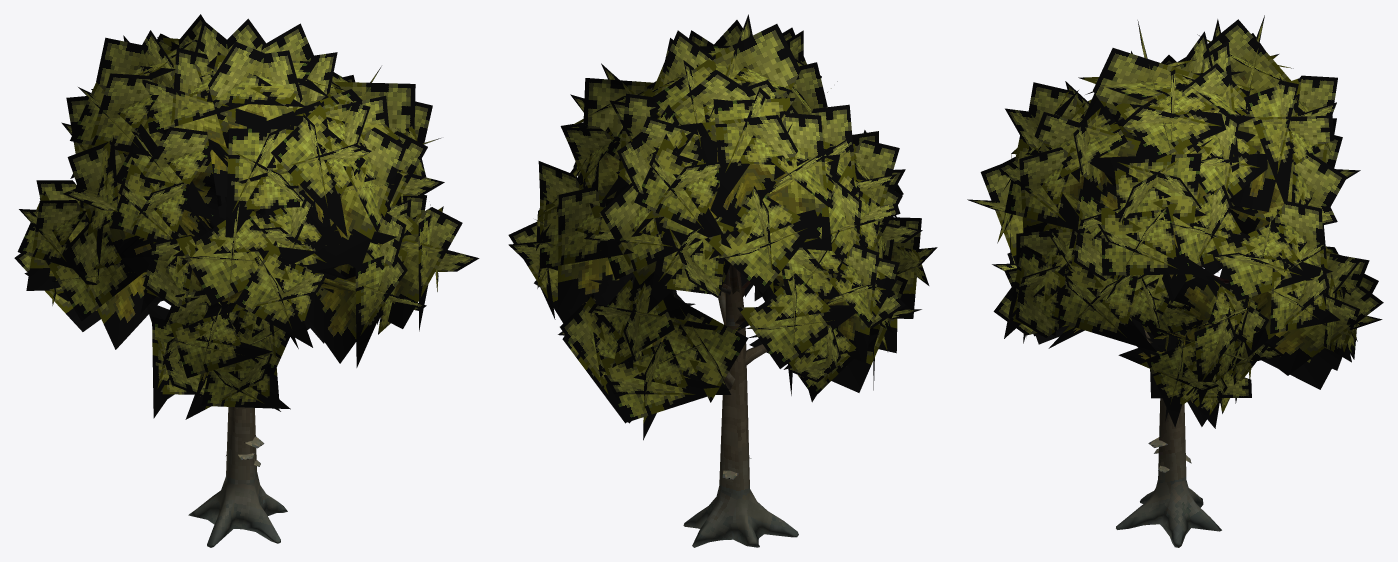
Rendered from plants_area02_tree01.gltf.
3 views of the same model, side by side, from view 1: azimuth 30°, elevation 25°; view 2: azimuth 150°, elevation 25°; view 3: azimuth 270°, elevation 25° (orthographic).
Visible parts, largest first — view 1: um_plants_area02_tree01_model_plants_area02_tree01_modelShap (×2); view 2: um_plants_area02_tree01_model_plants_area02_tree01_modelShap (×2); view 3: um_plants_area02_tree01_model_plants_area02_tree01_modelShap (×2).
Part boxes in pixels (x1,y1,x2,y2): um_plants_area02_tree01_model_plants_area02_tree01_modelShap (×2): (14,14,479,547); um_plants_area02_tree01_model_plants_area02_tree01_modelShap (×2): (508,14,937,547); um_plants_area02_tree01_model_plants_area02_tree01_modelShap (×2): (967,15,1383,547).
Size of the model in its own units: 5.3 by 7.1 by 5.43.
2 materials, 2 textured.
